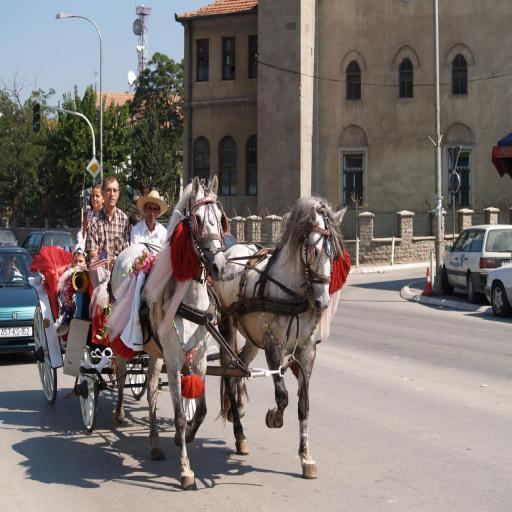horse: (212, 191, 346, 479), (108, 175, 228, 489)
